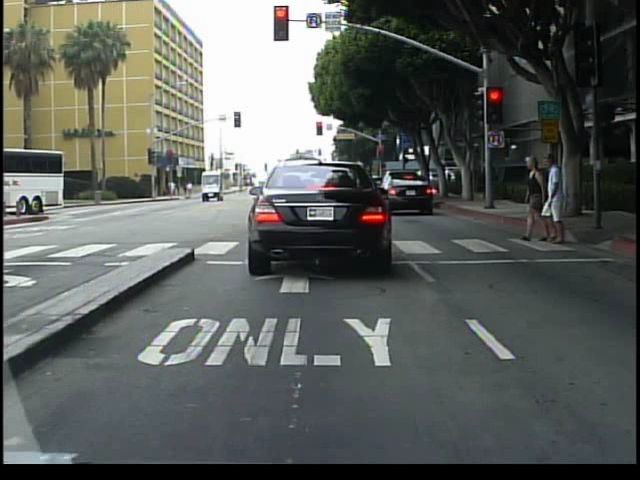person: (545, 152, 575, 250), (519, 157, 547, 243)
